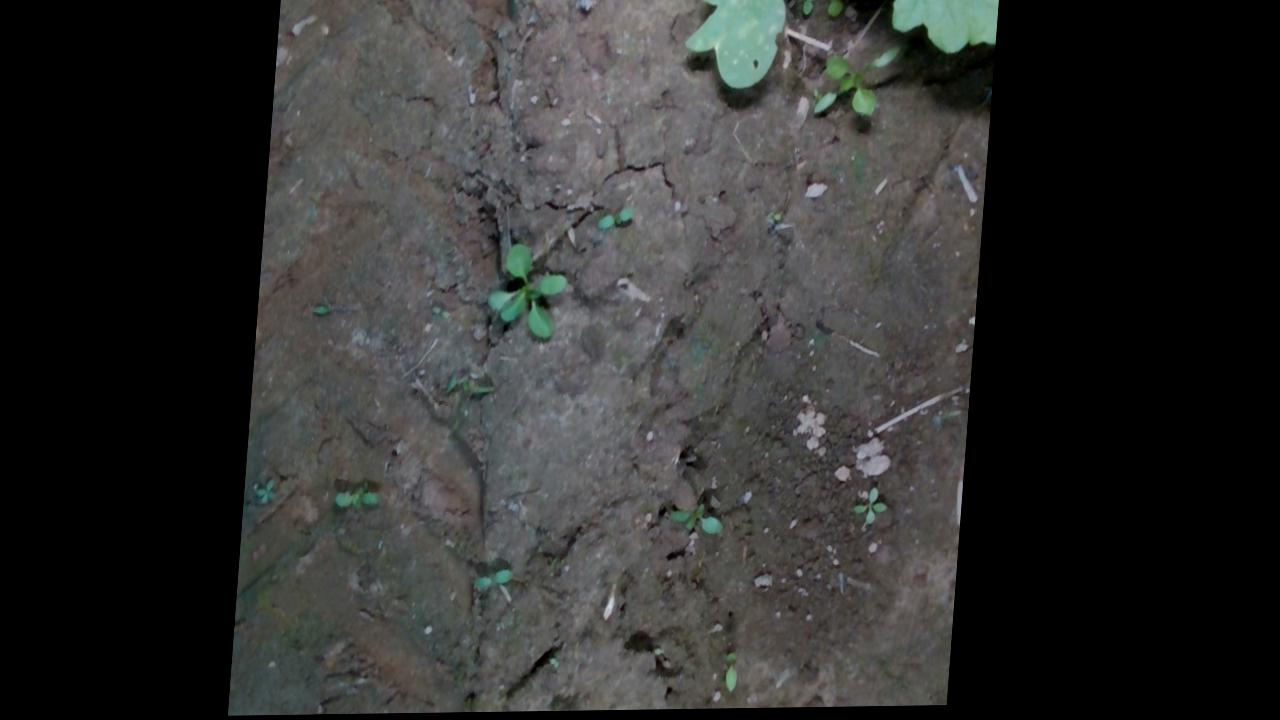weed: (673, 503, 734, 538), (861, 486, 900, 528), (600, 205, 642, 232), (341, 489, 391, 510), (482, 569, 525, 592), (734, 650, 752, 695), (263, 478, 287, 505), (801, 0, 824, 20)
